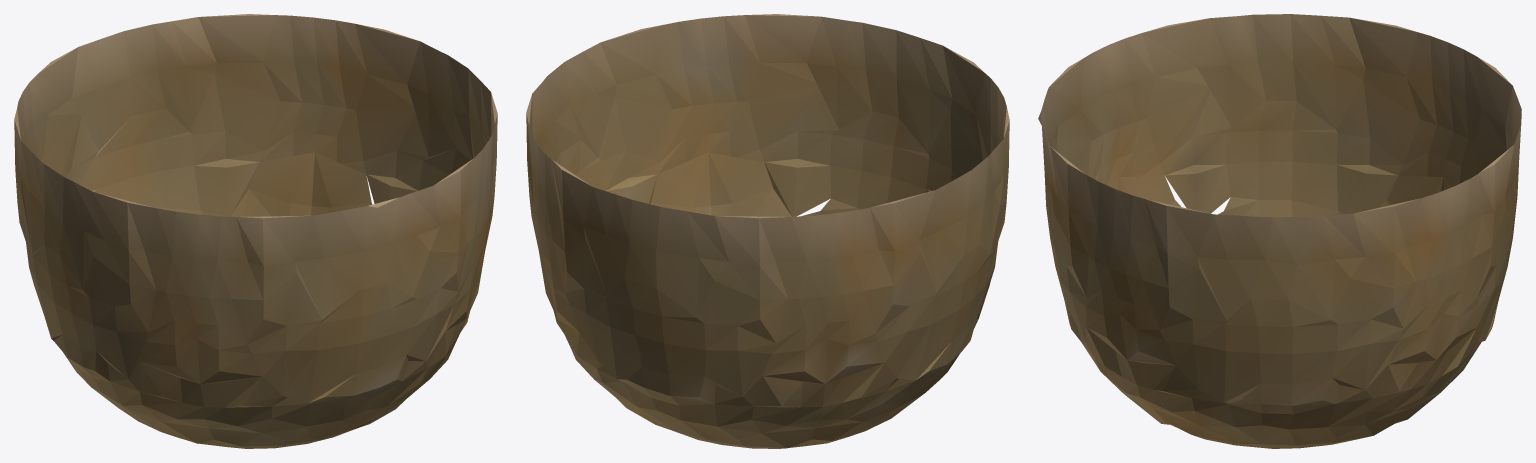
File: rice-bowl.gltf
3 views of the same model, side by side, from view 1: azimuth 30°, elevation 25°; view 2: azimuth 150°, elevation 25°; view 3: azimuth 270°, elevation 25° (orthographic).
Visible parts, largest first — view 1: rice-bowl; view 2: rice-bowl; view 3: rice-bowl.
Part boxes in pixels (bbox=[...]): rice-bowl: bbox=[14, 14, 497, 448]; rice-bowl: bbox=[526, 14, 1009, 448]; rice-bowl: bbox=[1038, 14, 1521, 448].
Size of the model in its own units: 0.0995 by 0.0641 by 0.1.
